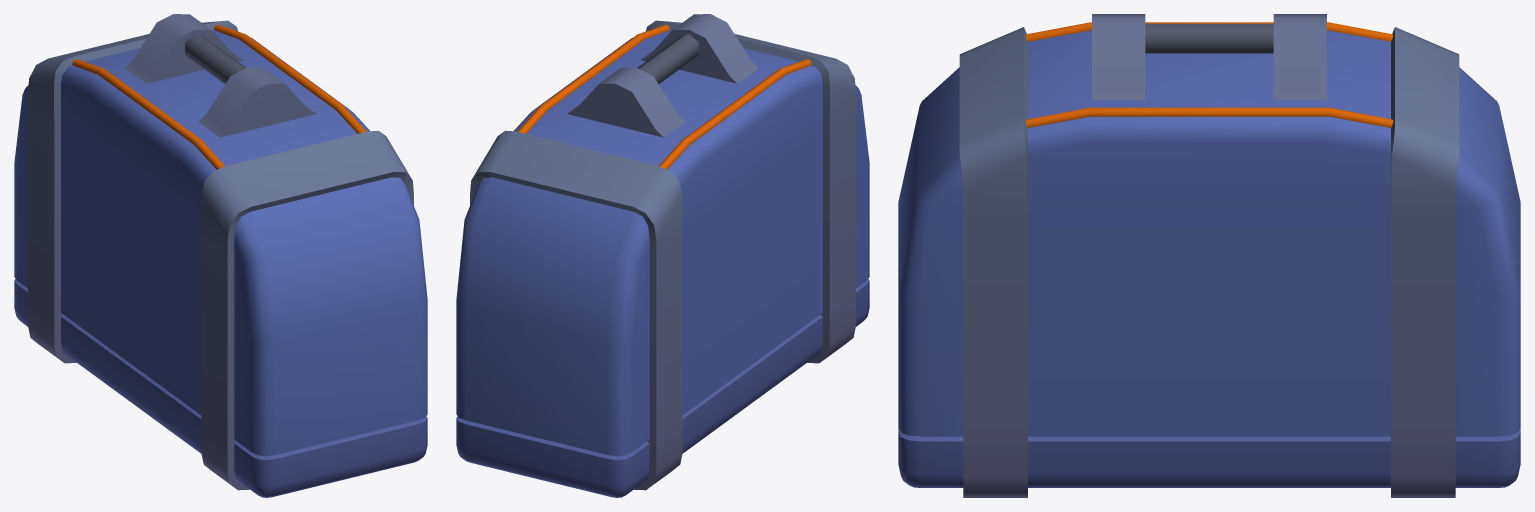
The model's file is Bag_1.FBX.
3 renders of one model, left to right at view 1: azimuth 30°, elevation 25°; view 2: azimuth 150°, elevation 25°; view 3: azimuth 270°, elevation 25°, orthographic. The views are drawn at different scales.
Parts seen in each view (by area): view 1: Bag_1; view 2: Bag_1; view 3: Bag_1.
Boxes of the visible parts, <box> form: Bag_1: <box>14,14,427,497</box>; Bag_1: <box>456,14,869,497</box>; Bag_1: <box>898,14,1520,497</box>.
Size of the model in its own units: 15.91 by 28.6 by 37.29.
Materials: 1 (1 with a texture image).
